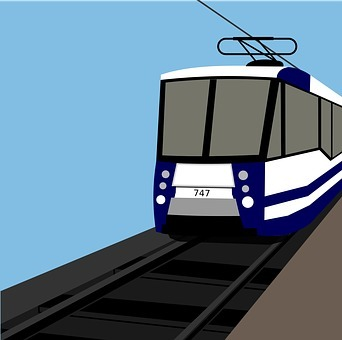train: (149, 47, 337, 248)
